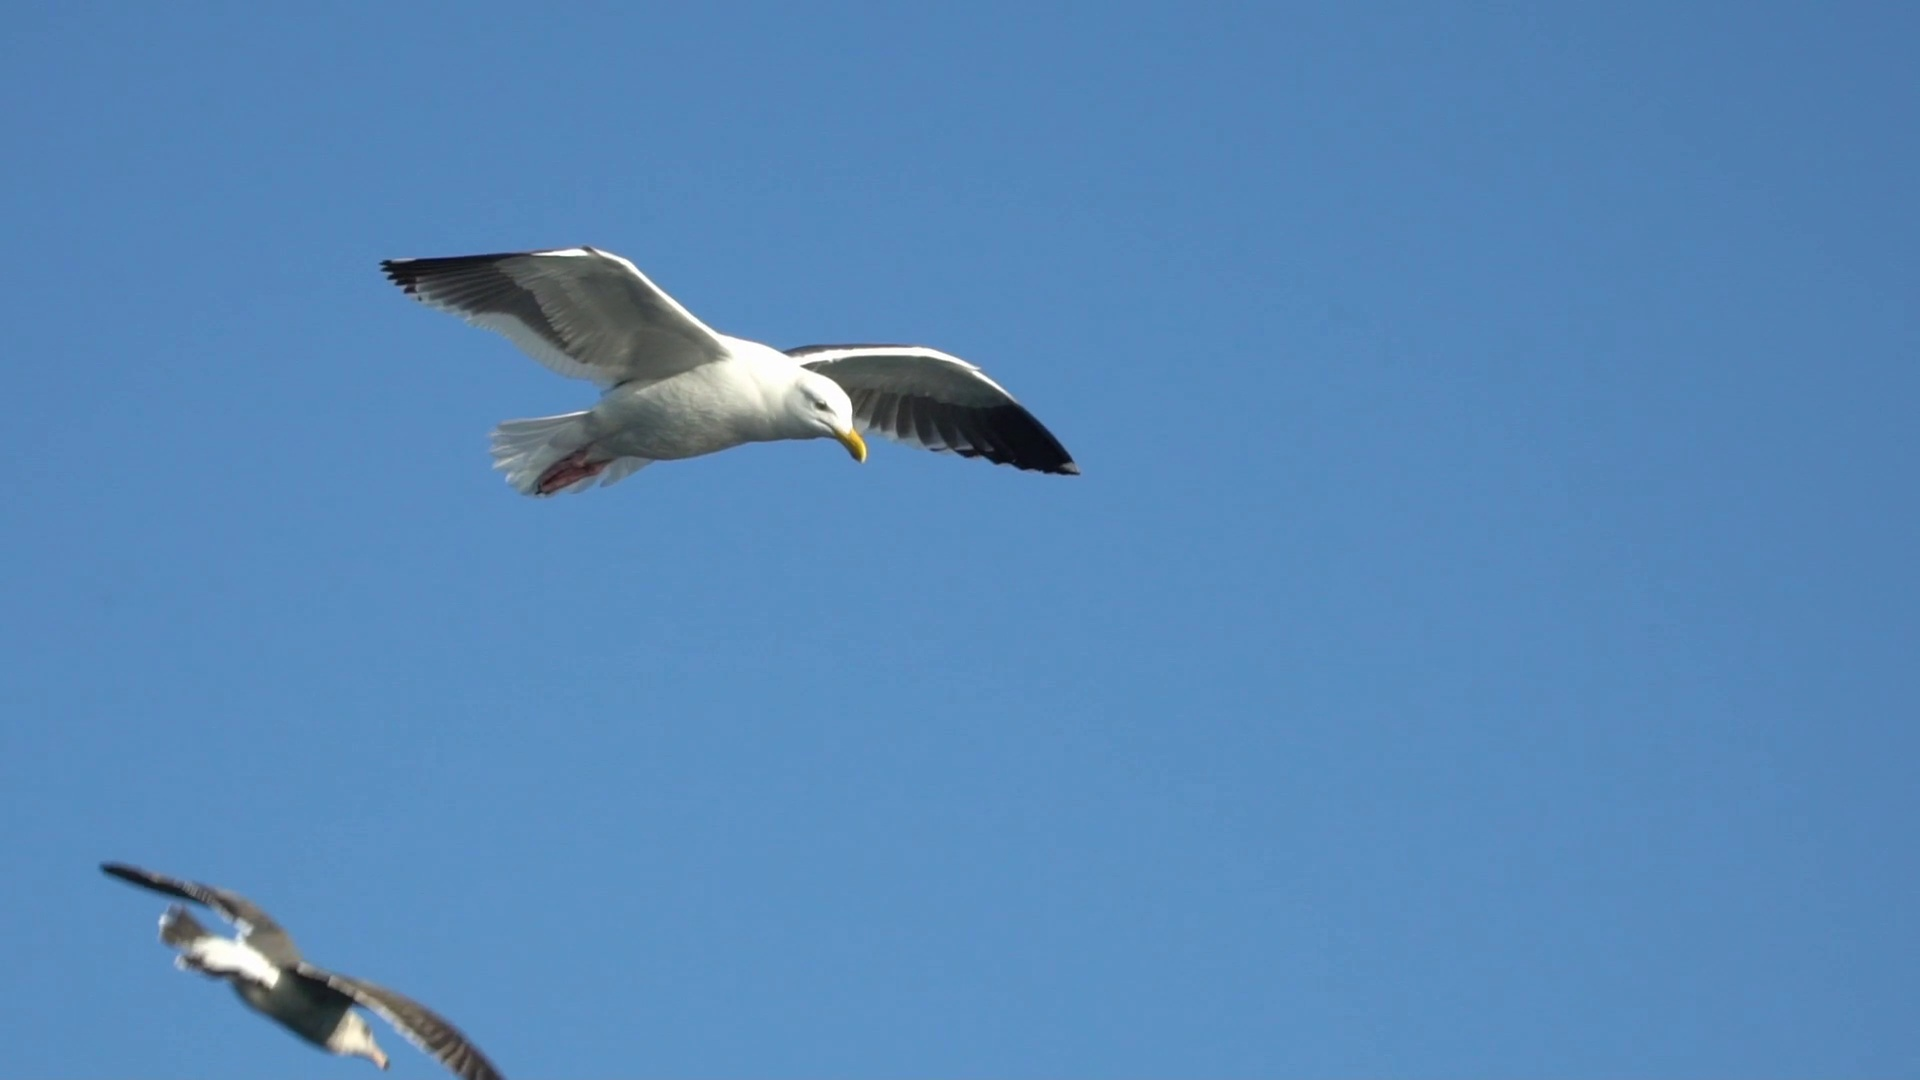bird: (380, 244, 1073, 495), (102, 858, 512, 1080)
